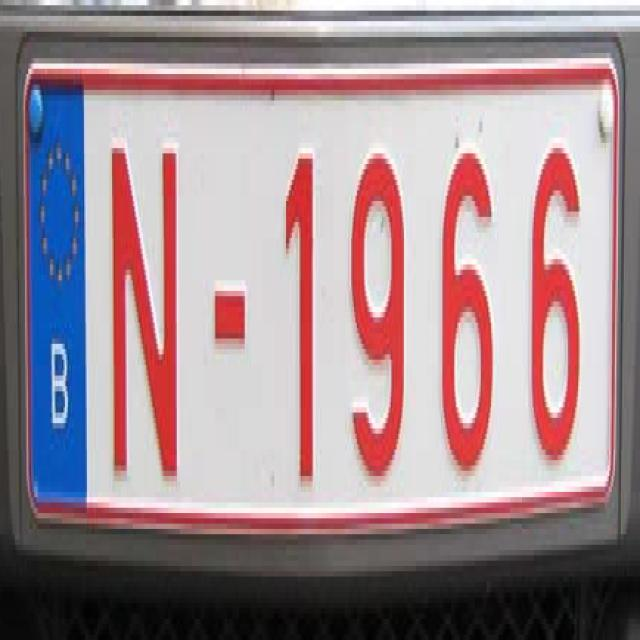Belgique: (33, 91, 86, 514)
EU: (19, 41, 620, 541)
